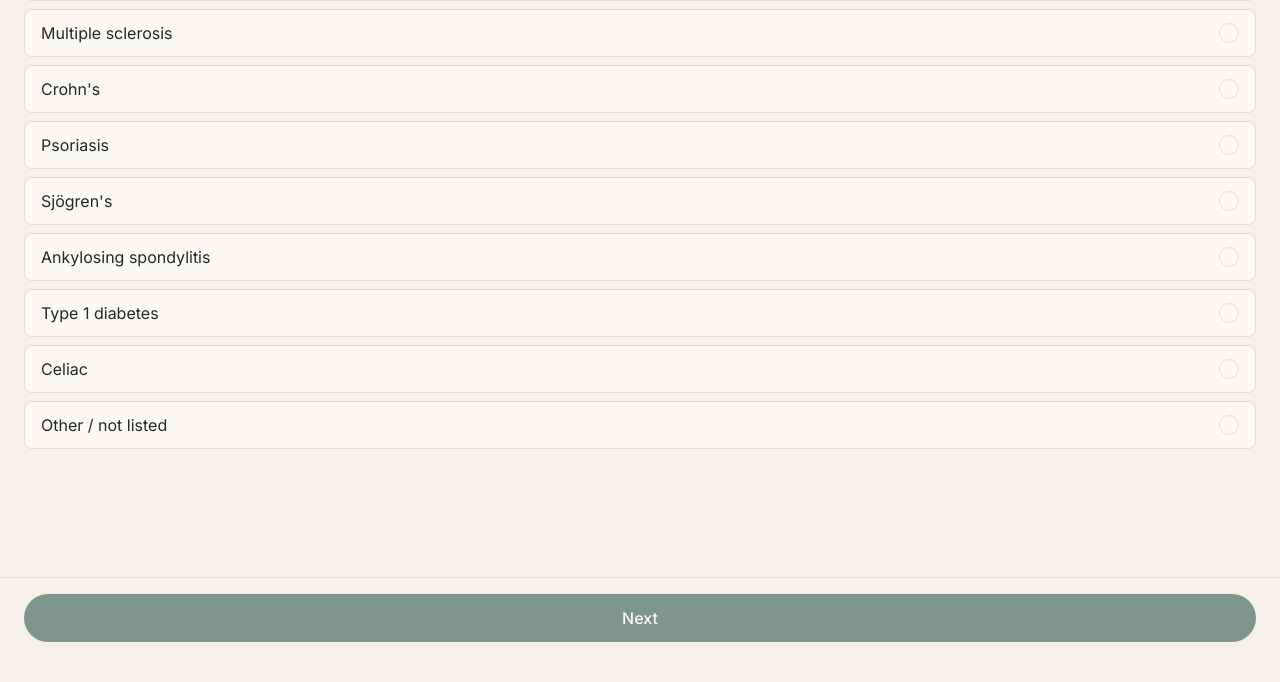
/setup/condition page › reveals free-text input when "Other" is selected
(page scrolled)
Click the radio button with test id "condition-option-other". click: coordinates (104, 425)
box: 24,401 -> 1256,449
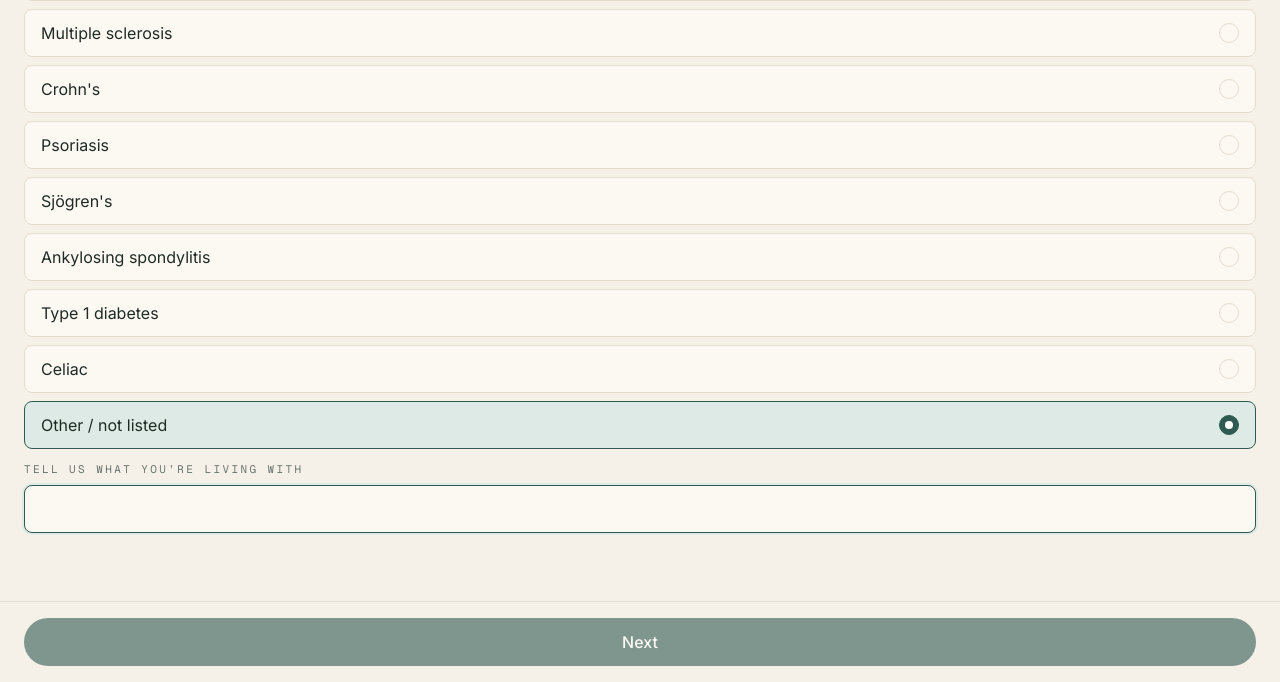
expect the field with test id "condition-other-input" is shown: met, box 24,485 -> 1256,533
